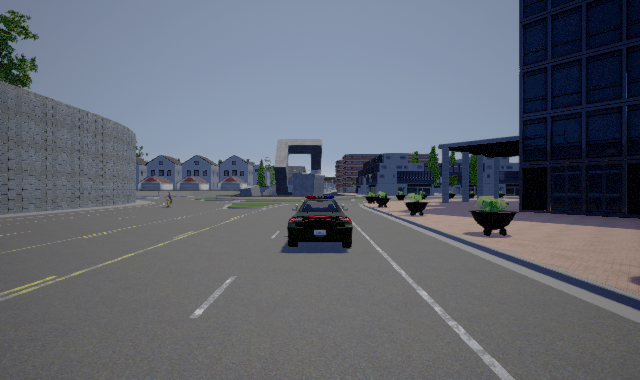bike: (163, 191, 174, 208)
vehicle: (287, 196, 353, 248)
